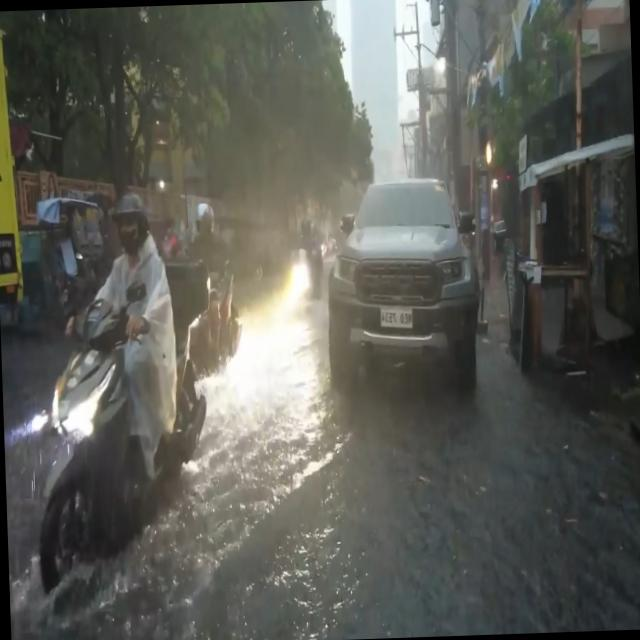half: (112, 190, 148, 251), (193, 202, 214, 235)
